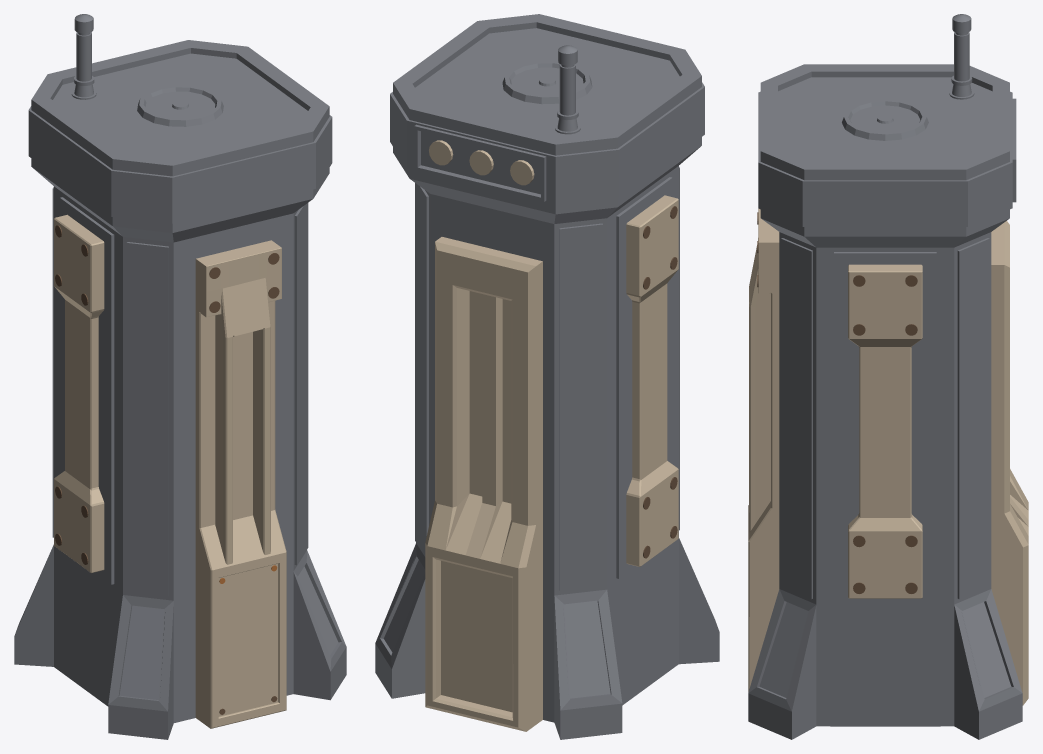
The model's file is pillar.fbx.
The picture shows the model from 3 angles, left to right: view 1: azimuth 30°, elevation 25°; view 2: azimuth 150°, elevation 25°; view 3: azimuth 270°, elevation 25°; orthographic projection. The views are drawn at different scales.
Visible parts, largest first — view 1: Plane, Cube.002, Cube.001, Cylinder.009, Cylinder.010; view 2: Plane, Cube, Cube.001, Cylinder.009, Cylinder.010, Cylinder.008; view 3: Plane, Cube.001, Cube.002, Cube, Cylinder.009, Cylinder.010, Cylinder.
Boxes of the visible parts, <box> form: Plane: <box>14,40,346,739</box>; Cube.002: <box>195,240,286,728</box>; Cube.001: <box>54,214,104,572</box>; Cylinder.009: <box>137,85,223,126</box>; Cylinder.010: <box>71,14,96,99</box>; Plane: <box>375,14,719,739</box>; Cube: <box>425,237,542,731</box>; Cube.001: <box>626,195,678,566</box>; Cylinder.009: <box>502,61,592,104</box>; Cylinder.010: <box>555,45,580,134</box>; Cylinder.008: <box>429,140,534,185</box>; Plane: <box>748,64,1022,739</box>; Cube.001: <box>848,264,922,598</box>; Cube.002: <box>748,208,779,691</box>; Cube: <box>991,221,1028,705</box>; Cylinder.009: <box>842,99,928,140</box>; Cylinder.010: <box>949,14,974,99</box>; Cylinder: <box>853,275,917,335</box>.
Bounding box in the file's own units: 220 × 565 × 225.
